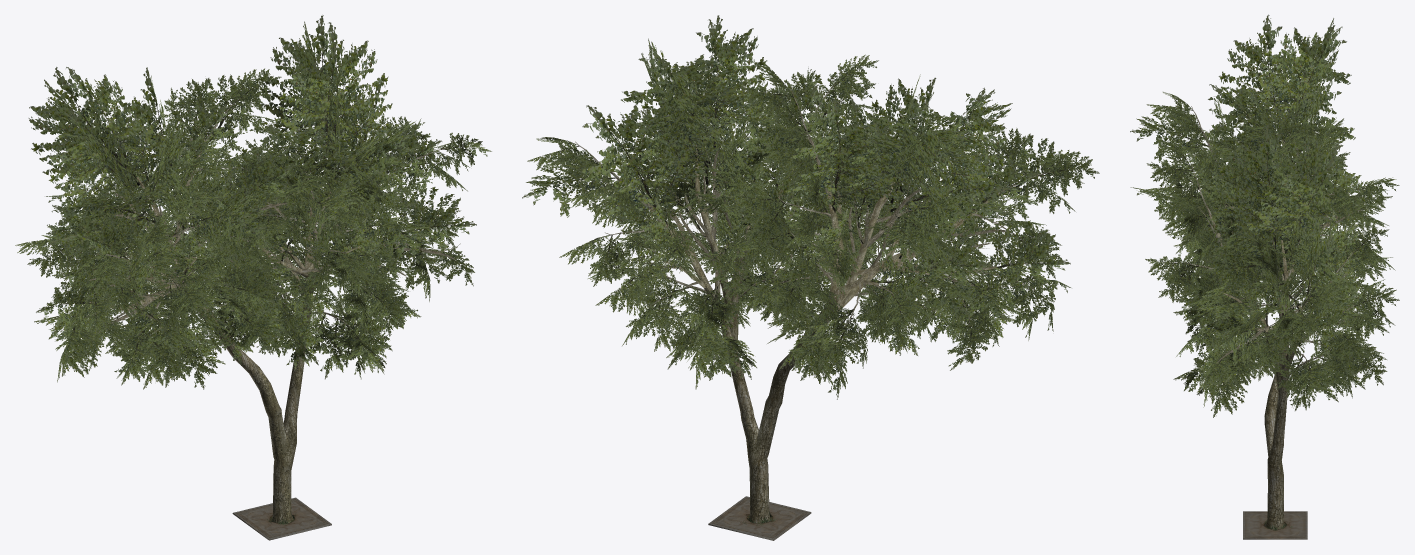
The model's file is TreeLargeSplit_Static.FBX.
3 renders of one model, left to right at view 1: azimuth 30°, elevation 25°; view 2: azimuth 150°, elevation 25°; view 3: azimuth 270°, elevation 25°, orthographic. The views are drawn at different scales.
Parts seen in each view (by area): view 1: Tree_Trunk, Tree_Grate; view 2: Tree_Trunk, Tree_Grate; view 3: Tree_Trunk, Tree_Grate.
Part boxes in pixels (x1,y1,x2,y2): Tree_Trunk: [15, 15, 491, 523]; Tree_Grate: [232, 497, 331, 540]; Tree_Trunk: [522, 15, 1099, 523]; Tree_Grate: [708, 496, 811, 540]; Tree_Trunk: [1130, 14, 1399, 529]; Tree_Grate: [1243, 511, 1307, 539].
Bounding box in the file's own units: 1280 × 1225 × 697.
